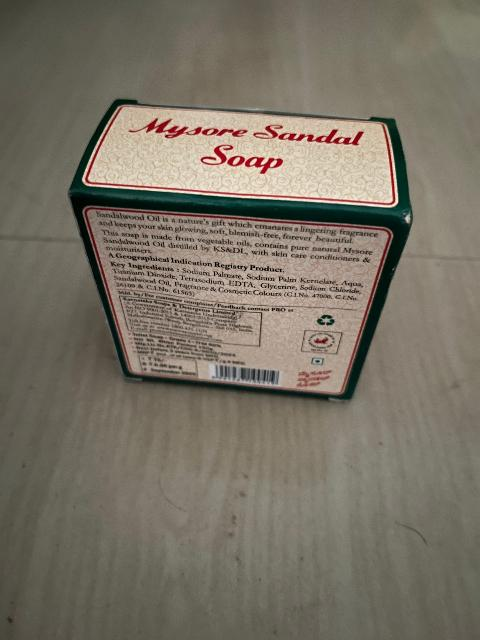mysore sandal soap: (69, 91, 415, 408)
